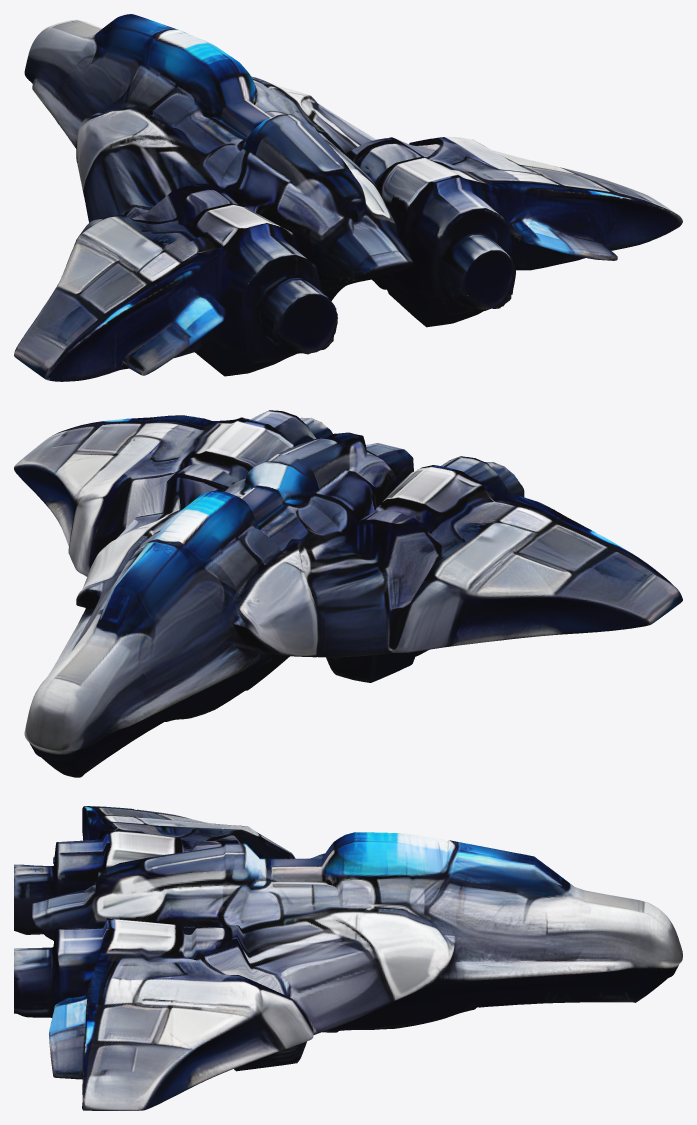
The model's file is player_spaceship.glb.
The picture shows the model from 3 angles, top to bottom: view 1: azimuth 30°, elevation 25°; view 2: azimuth 150°, elevation 25°; view 3: azimuth 270°, elevation 25°; orthographic projection. The views are drawn at different scales.
Parts seen in each view (by area): view 1: model; view 2: model; view 3: model.
Part boxes in pixels (x1,y1,x2,y2): model: [14, 14, 682, 381]; model: [14, 410, 682, 777]; model: [14, 806, 682, 1110].
Bounding box in the file's own units: 0.4105 × 0.1239 × 0.3953.
1 material, 1 textured.
